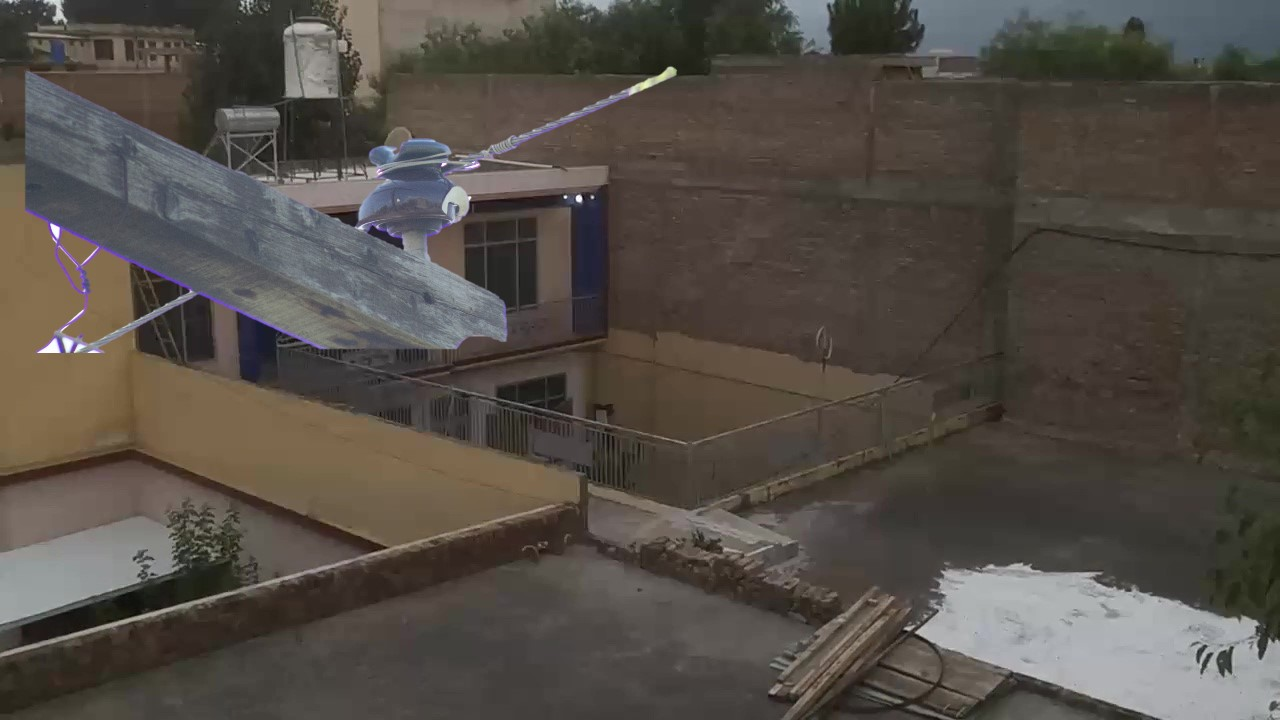defect_pin: (351, 135, 476, 244)
